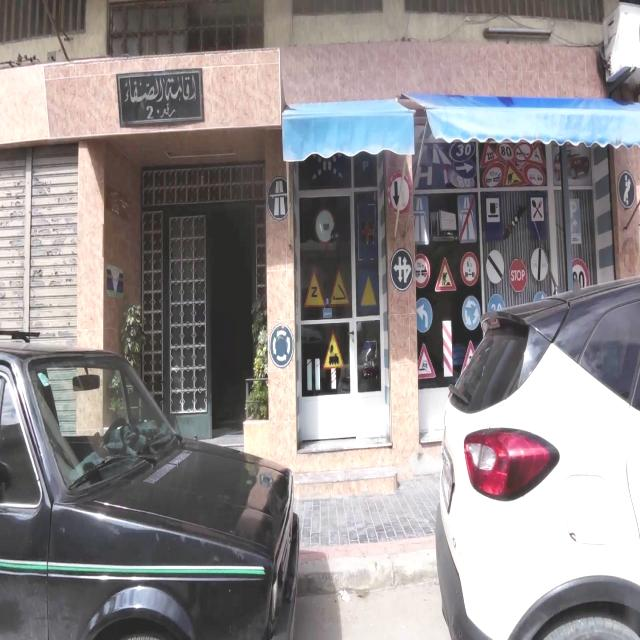car: (0, 334, 301, 640), (434, 275, 640, 639), (0, 333, 190, 488)
